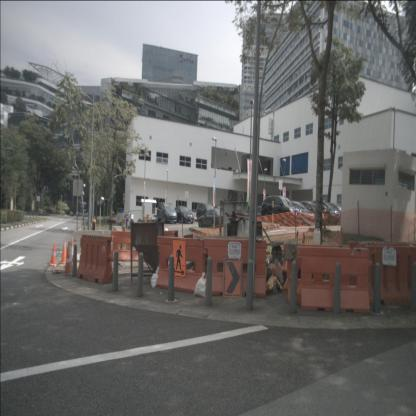movable_object-barrier: (296, 246, 370, 310), (203, 239, 267, 296), (368, 244, 415, 306), (157, 236, 207, 293), (76, 234, 112, 284), (111, 230, 147, 260)
movable_object-trafficcone: (63, 245, 73, 276), (58, 238, 69, 265), (48, 241, 57, 267), (69, 238, 76, 266)
vehicle-bus-rigid: (79, 202, 87, 217)
vehicle-car: (261, 195, 302, 226), (278, 201, 315, 226), (293, 200, 330, 225), (266, 197, 301, 223), (304, 200, 340, 225), (198, 208, 227, 229), (320, 203, 347, 225), (157, 203, 177, 224), (172, 206, 194, 224), (196, 202, 215, 221)
